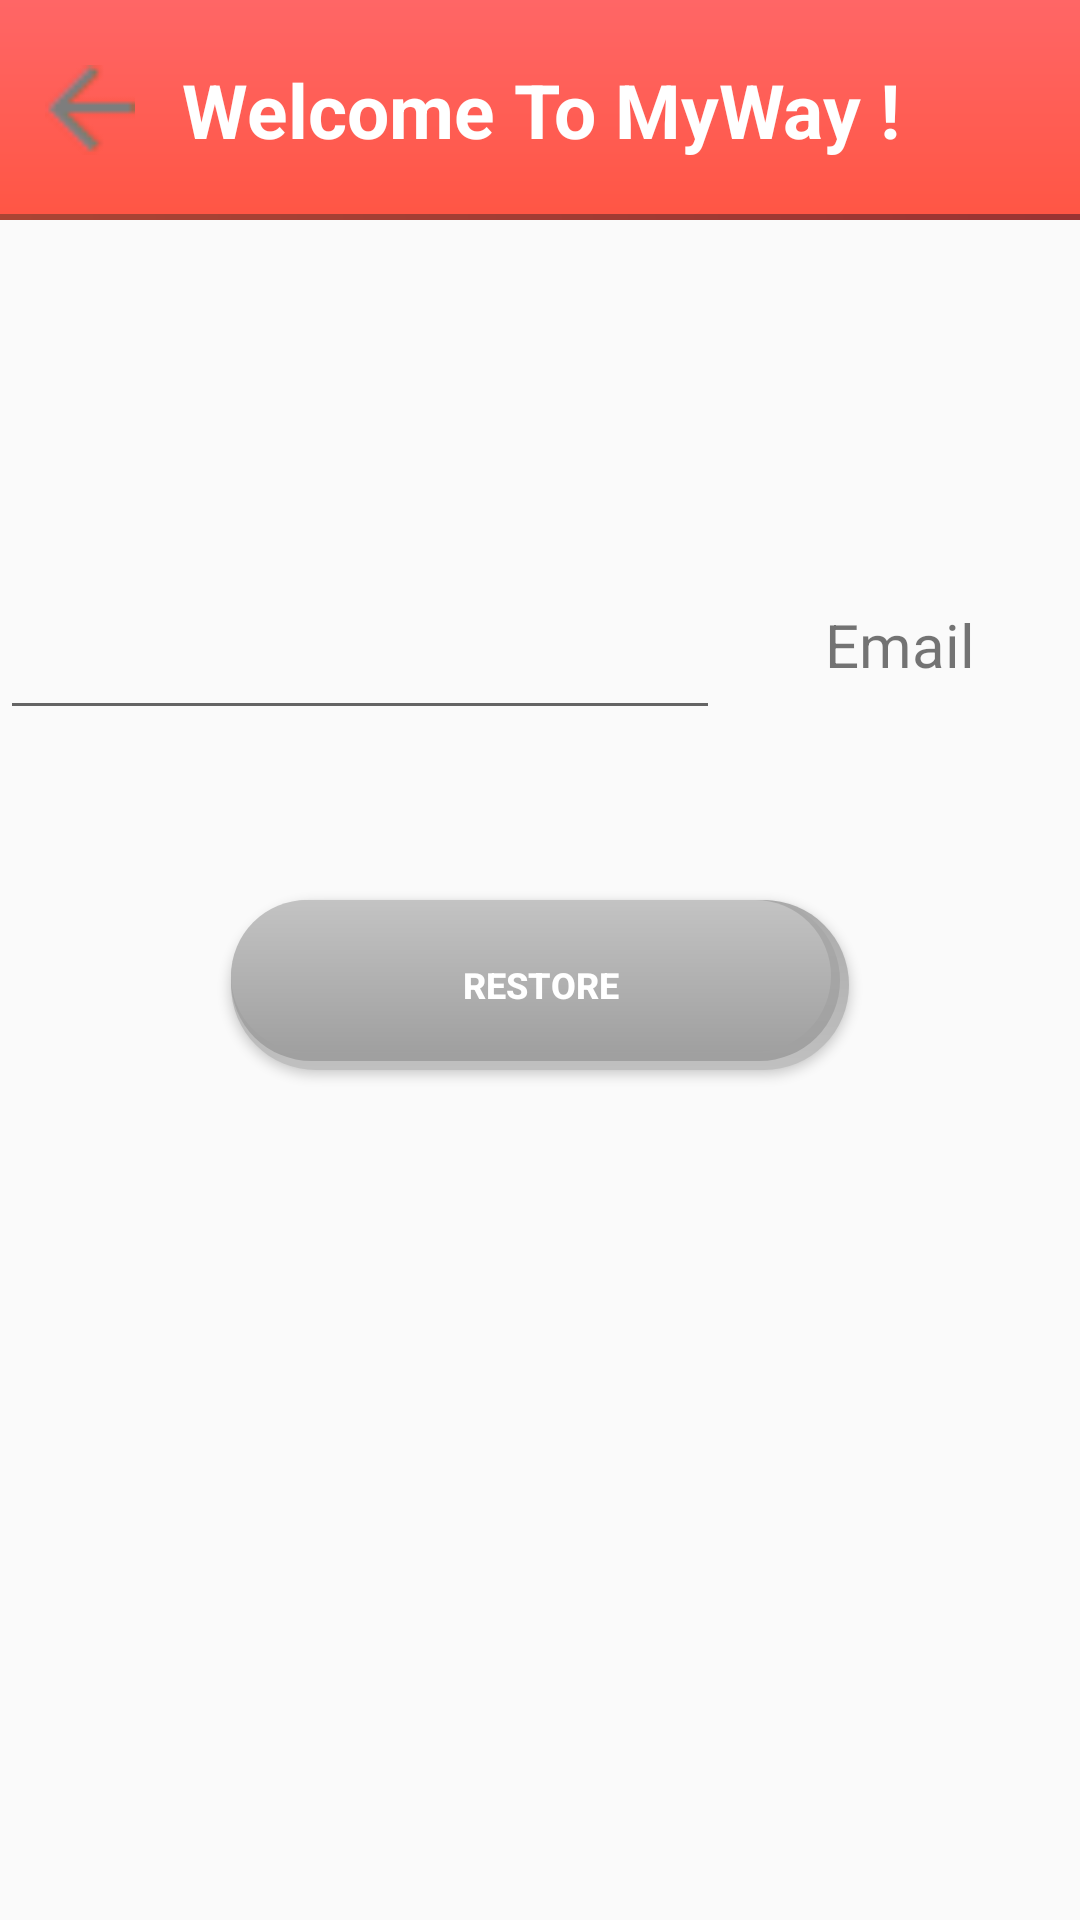

Where to tap for icons on this 1080w x 1920h app screen, as point (x, y):
left: point (90, 120)
